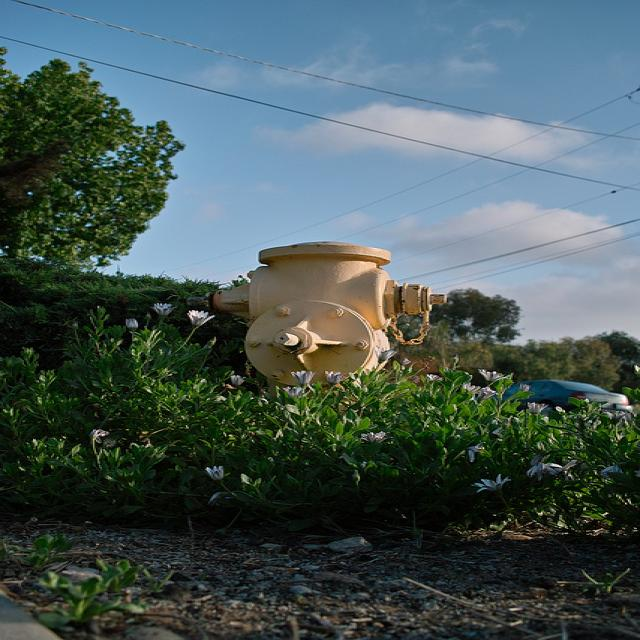Vehicle: (503, 379, 634, 412)
